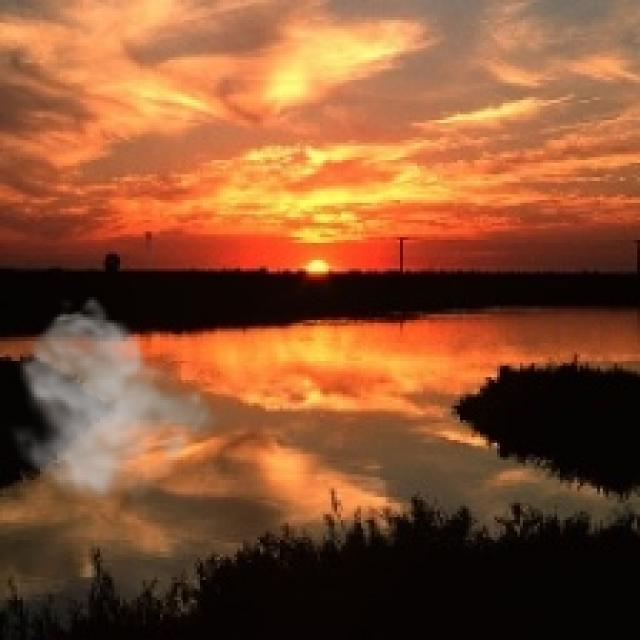smoke: (0, 294, 226, 509)
